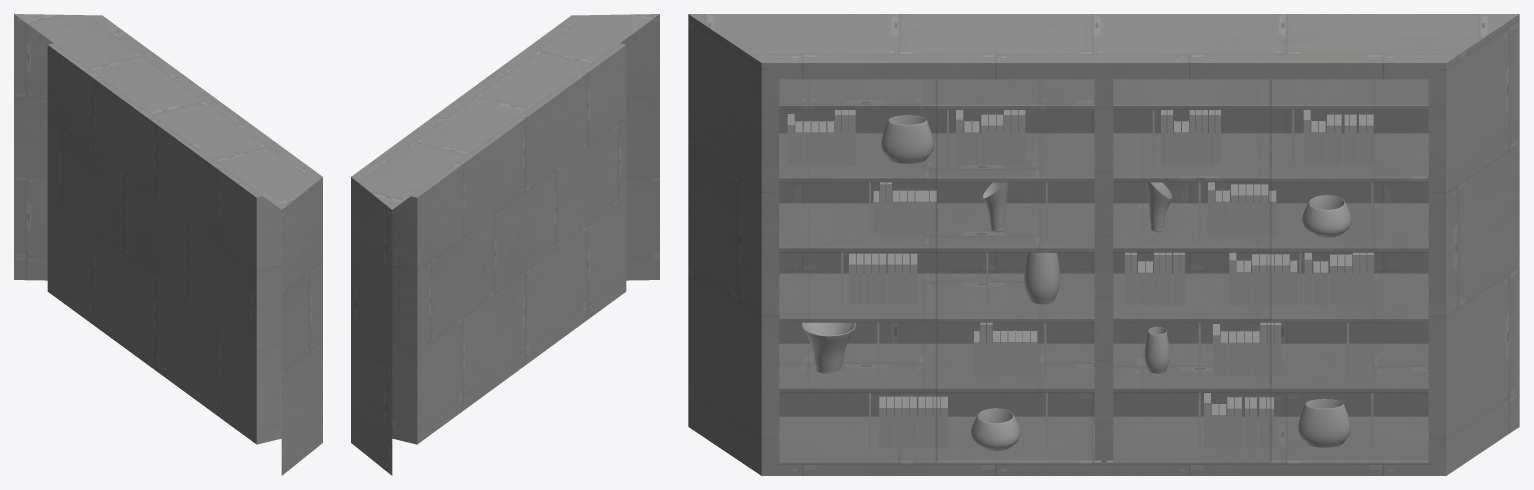
The model's file is Wallshelf02.FBX.
3 views of the same model, side by side, from view 1: azimuth 30°, elevation 25°; view 2: azimuth 150°, elevation 25°; view 3: azimuth 270°, elevation 25° (orthographic). The views are drawn at different scales.
Visible parts, largest first — view 1: WallShelf02; view 2: WallShelf02; view 3: WallShelf02, WallShef02_Glass, Wallshelf02, Wallshelf02_Pot.
Boxes of the visible parts, <box> form: WallShelf02: <box>14,14,322,475</box>; WallShelf02: <box>351,14,659,475</box>; WallShelf02: <box>688,14,1519,475</box>; WallShef02_Glass: <box>779,79,1428,461</box>; Wallshelf02: <box>787,110,1373,448</box>; Wallshelf02_Pot: <box>801,115,1351,450</box>.
Bounding box in the file's own units: 897 × 3516 × 6415.
